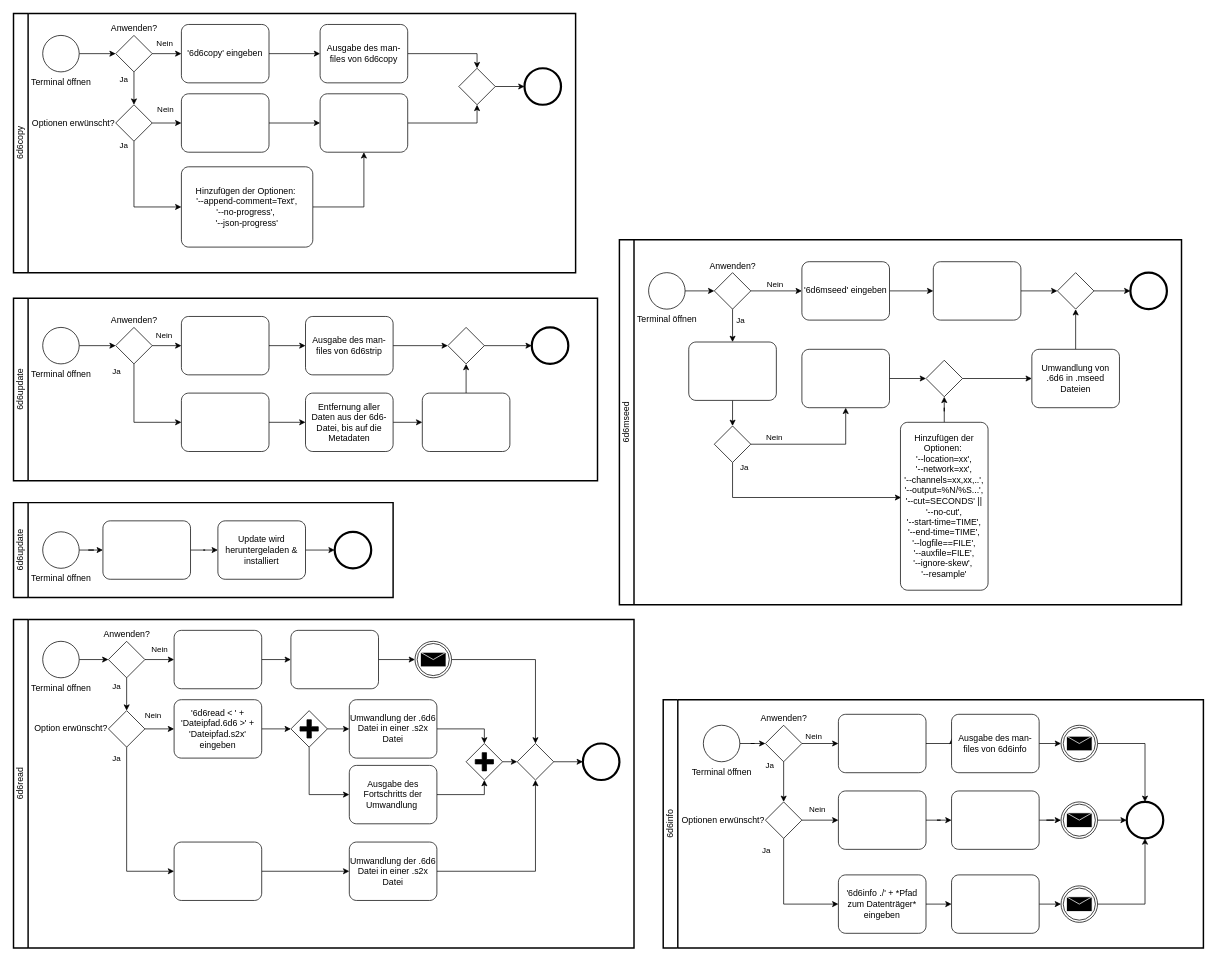
Image size: 1216x961. Some labels were removed from this diagram. Here are the shapes that lost their labels. From the top down, the centre of each, then its label:
At point (225, 122): "'6d6copy' + 'Datenträger-Pfad' + 'Zielpfad'".
At point (363, 122): "Kopieren des Datenträgers zu einer Datei zu dem angegebenen Pfad".
At point (977, 290): "Ausgabe des man-files von 6d6mseed".
At point (225, 345): "'6d6strip' eingeben".
At point (732, 370): "'6d6mseed' eingeben + 'Dateipfad.6d6' + '--station=xxxxx'".
At point (845, 378): "Ausführung der Eingabe".
At point (225, 422): "'6d6strip' + 'Dateipfad.6d6' + 'Dateipfad.6d6' eingeben".
At point (466, 422): "Erzeugen einer gekürzten 6d6-Datei".
At point (732, 443): "Weitere Optionen?".
At point (146, 549): "'6d6update' eingeben".
At point (217, 659): "'6d6read' eingeben".
At point (334, 659): "Ausgabe des man-files von 6d6read".
At point (882, 743): "'6d6info' eingeben".
At point (882, 819): "'6d6info ./' + *Dateipfad* eingeben".
At point (995, 819): "Ausgabe des 6d6-Headers einer Datei".
At point (217, 870): "Hinzufügen der Option: '--no-progress'".
At point (995, 903): "Ausgabe des 6d6-Headers eines Datenträgers".
